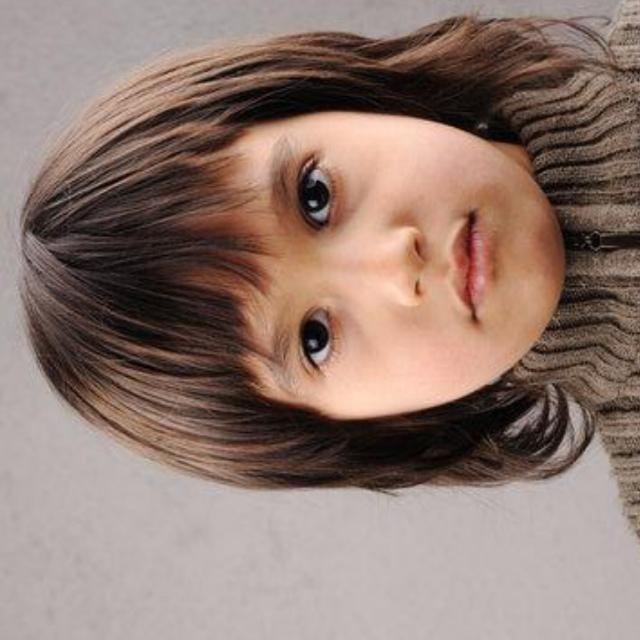Natural: (126, 73, 588, 481)
